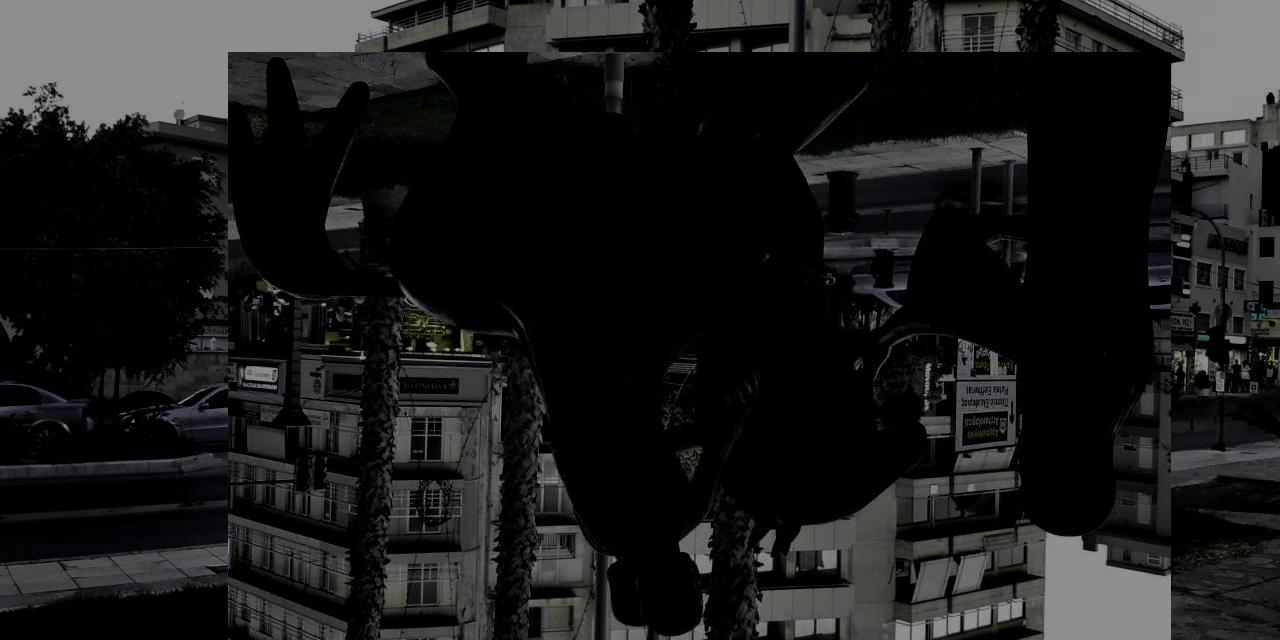Aretousa: (229, 53, 1172, 640)
